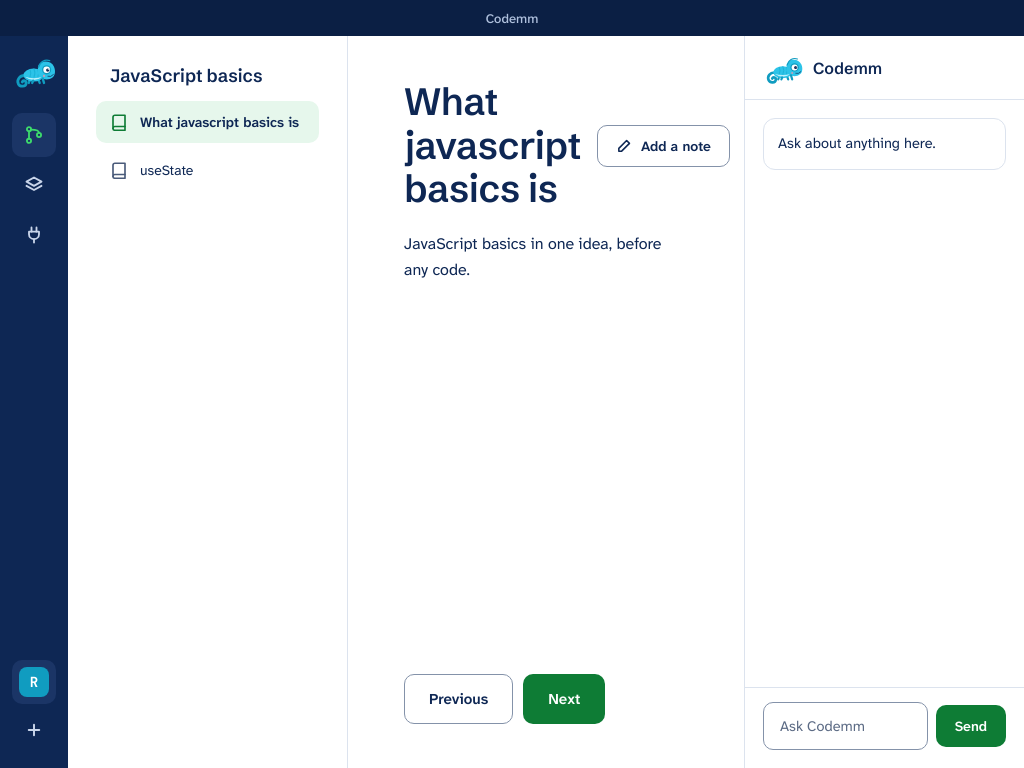
Test: finishes a lessons-only topic from the reader and returns to the map
Click the button "Next": x=564, y=699 [523,674,605,724]
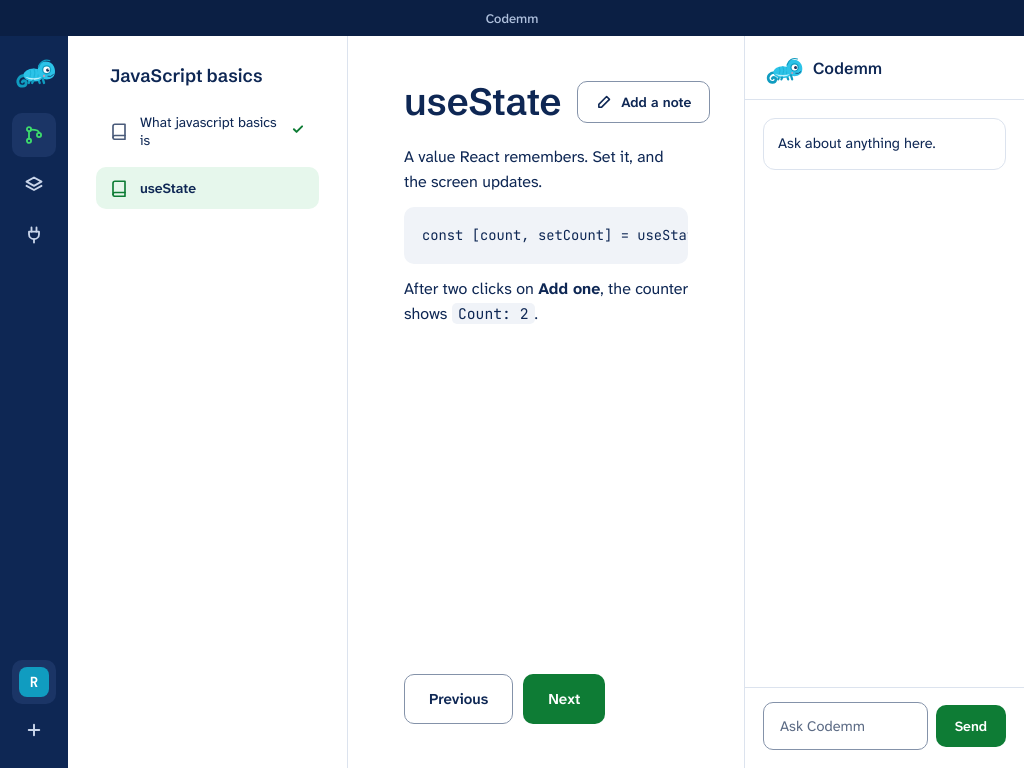
Expected: the heading "useState" is shown, [404,80,561,124]
Click the button "Next": x=564, y=699 [523,674,605,724]
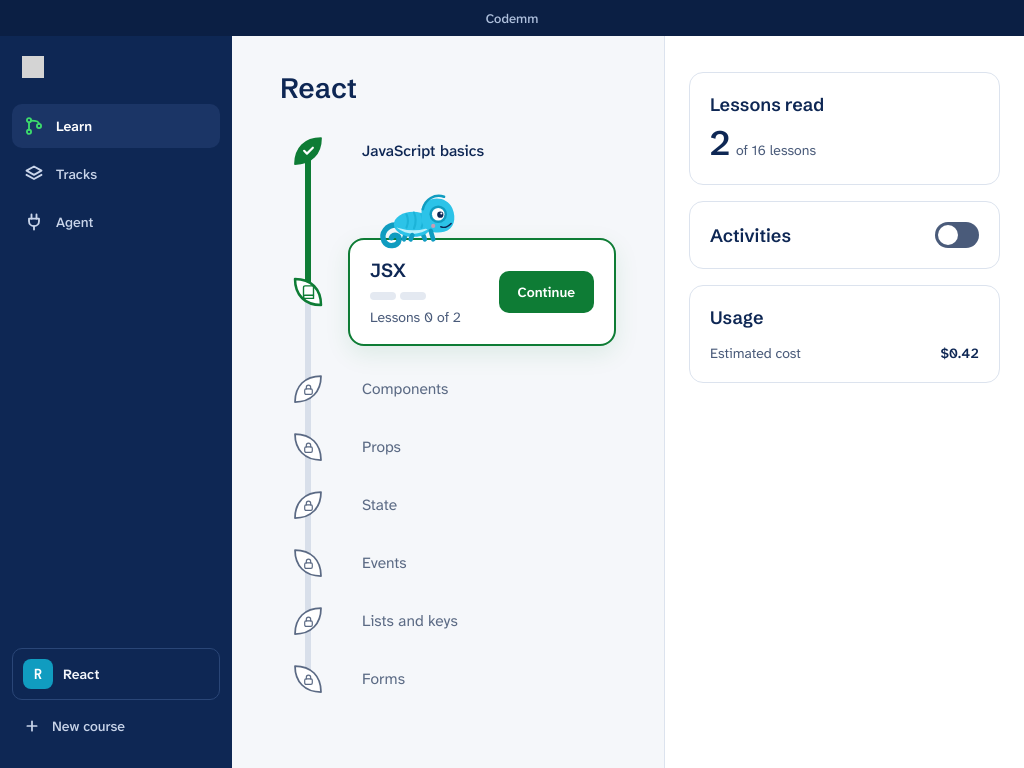
Expected: the heading "Lessons read" is shown, [710,93,824,116]
